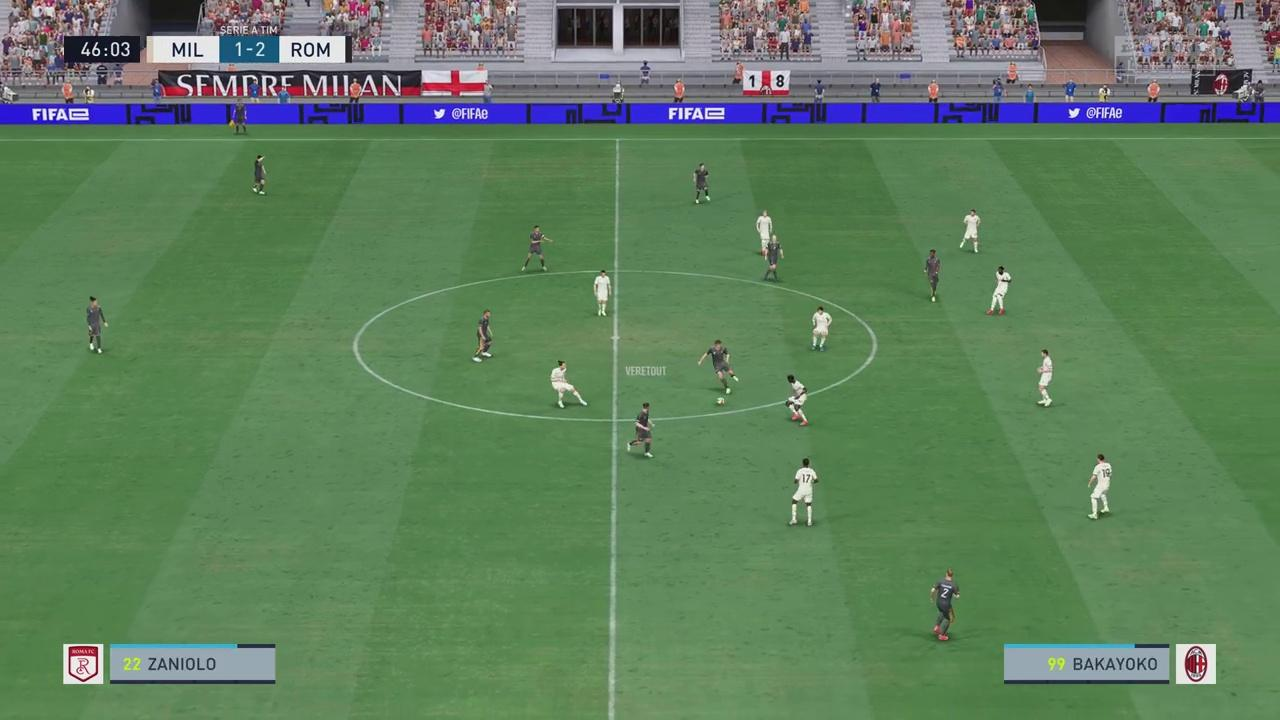scoreboard: (153, 36, 349, 65)
timestamp: (65, 39, 135, 61)
